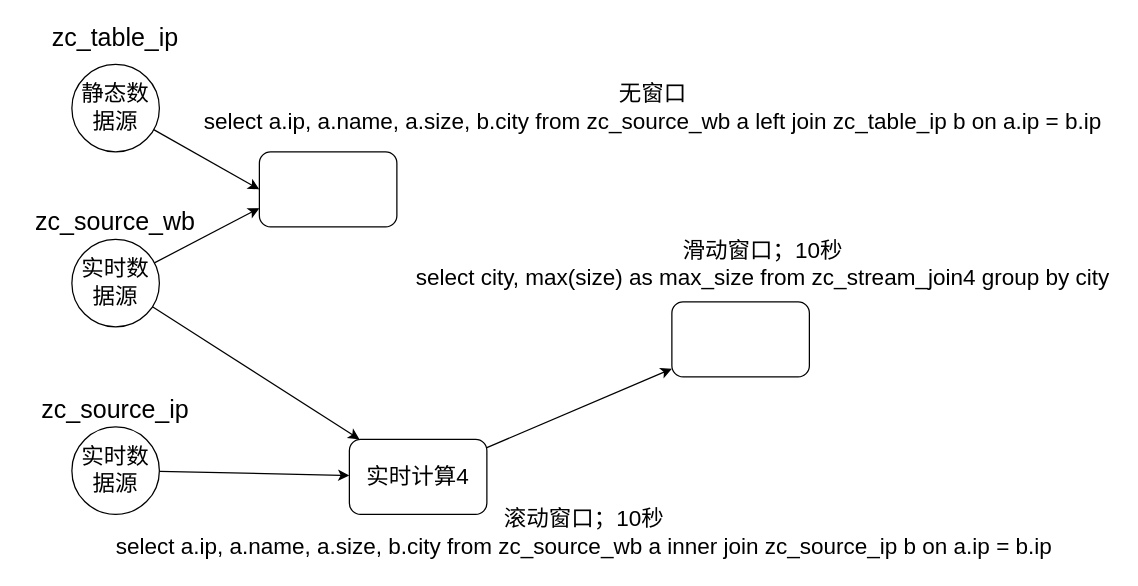
This 1138x586 diagram has some shape labels left out. Each missing label, with the centre of its shape:
"实时计算5" belongs at (x=327, y=189).
"实时计算6" belongs at (x=740, y=339).
